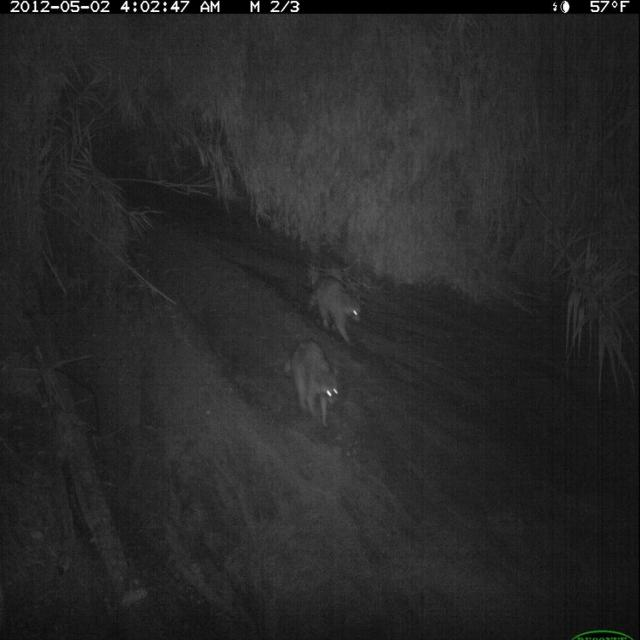raccoon: (281, 336, 343, 434), (305, 271, 365, 338)
